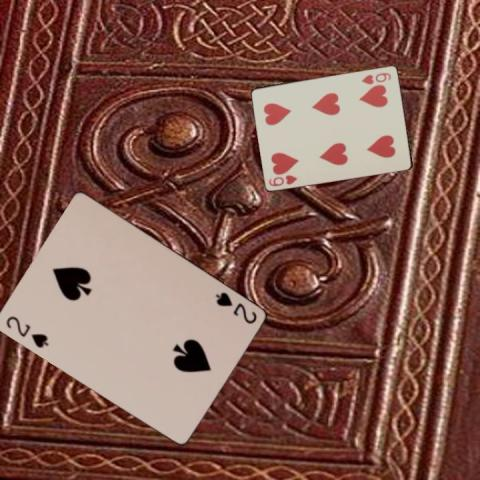2s: (3, 313, 50, 349), (213, 289, 259, 325)
6h: (359, 70, 392, 86), (266, 172, 299, 187)
